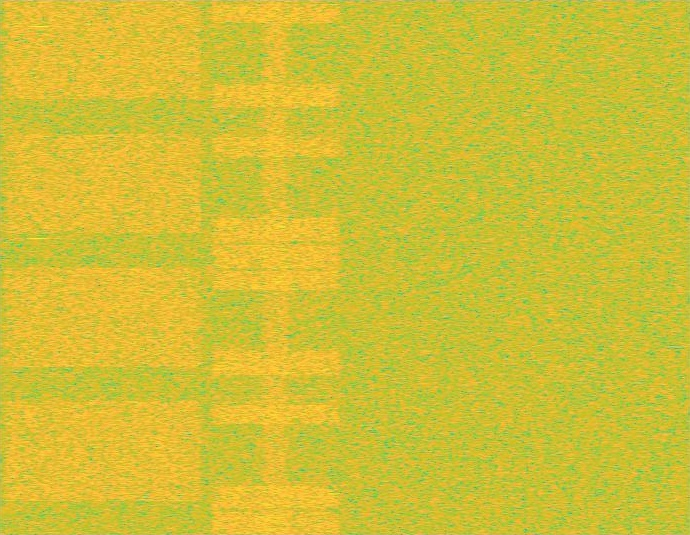5G: (0, 0, 207, 534)
DSSS: (260, 0, 292, 534)
LTE: (207, 0, 345, 534)
Radar: (31, 0, 45, 534)
